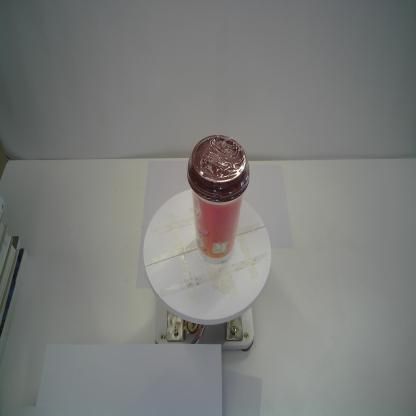Instant Drink: (186, 134, 250, 266)
